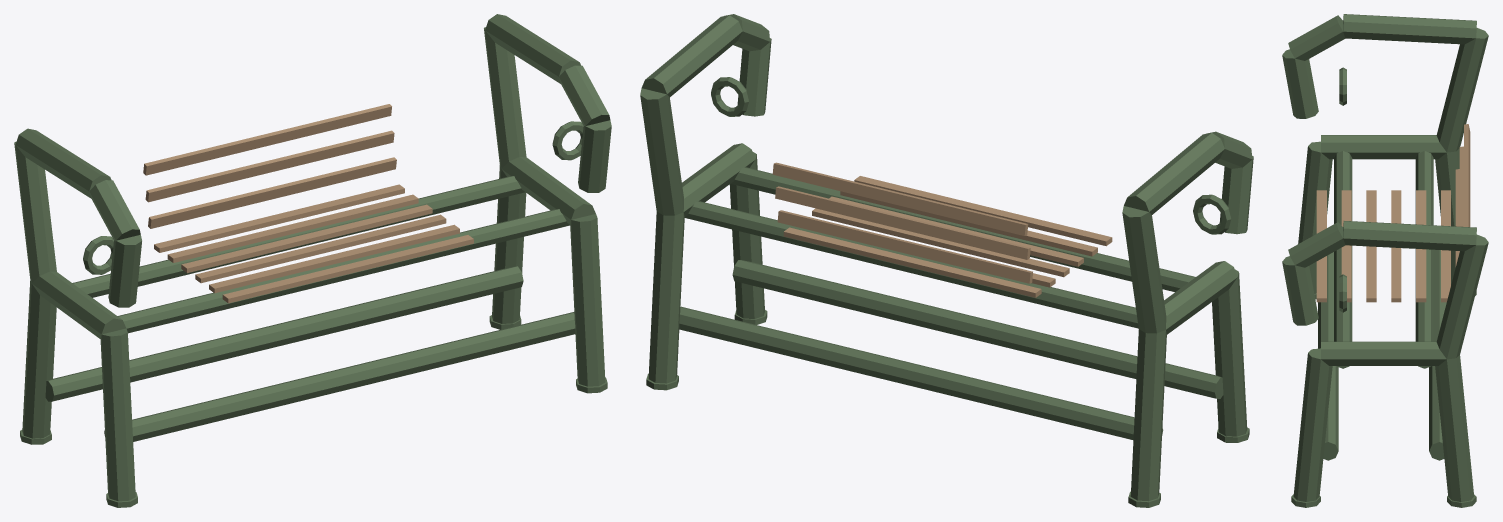
Rendered from cp_bench.glb.
3 views of the same model, side by side, from view 1: azimuth 30°, elevation 25°; view 2: azimuth 150°, elevation 25°; view 3: azimuth 270°, elevation 25° (orthographic). The views are drawn at different scales.
Visible parts, largest first — view 1: ParkFurn_Bench_CP; view 2: ParkFurn_Bench_CP; view 3: ParkFurn_Bench_CP.
Boxes of the visible parts, <box> form: ParkFurn_Bench_CP: <box>14,14,611,507</box>; ParkFurn_Bench_CP: <box>640,14,1253,507</box>; ParkFurn_Bench_CP: <box>1282,14,1488,507</box>.
Size of the model in its own units: 1.42 by 0.8381 by 0.5577.
